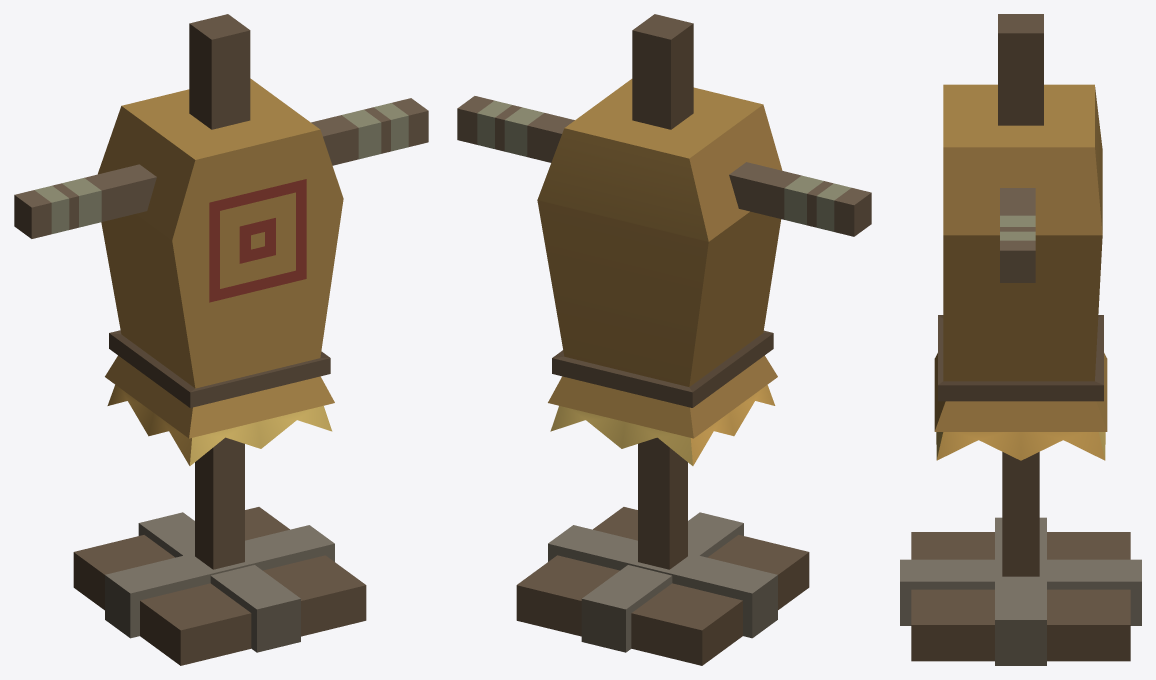
File: Model_Horde_1x1C.fbx
3 views of the same model, side by side, from view 1: azimuth 30°, elevation 25°; view 2: azimuth 150°, elevation 25°; view 3: azimuth 270°, elevation 25° (orthographic). The views are drawn at different scales.
Parts seen in each view (by area): view 1: Model_Frost_1x1C; view 2: Model_Frost_1x1C; view 3: Model_Frost_1x1C.
Part boxes in pixels (x1,y1,x2,y2): Model_Frost_1x1C: [14, 14, 428, 665]; Model_Frost_1x1C: [457, 14, 871, 665]; Model_Frost_1x1C: [900, 14, 1141, 665].
Size of the model in its own units: 189 by 263 by 97.5.
1 material, 1 textured.
